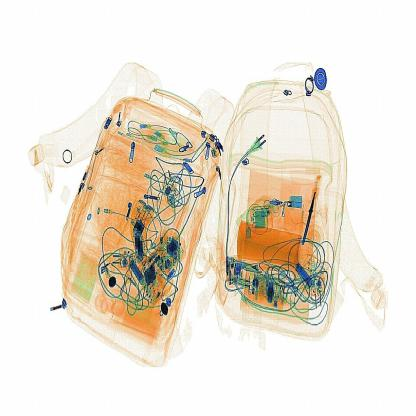gun: (301, 174, 323, 245)
